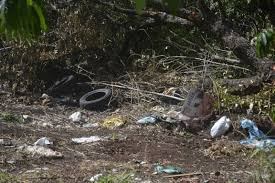tire: (80, 89, 113, 107), (45, 75, 76, 94)
